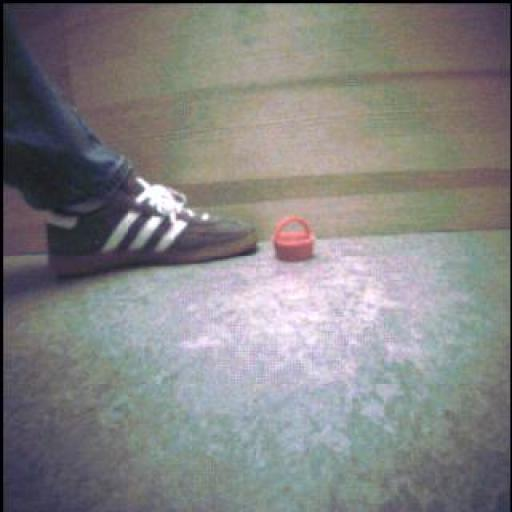Bucket: (275, 217, 315, 262)
